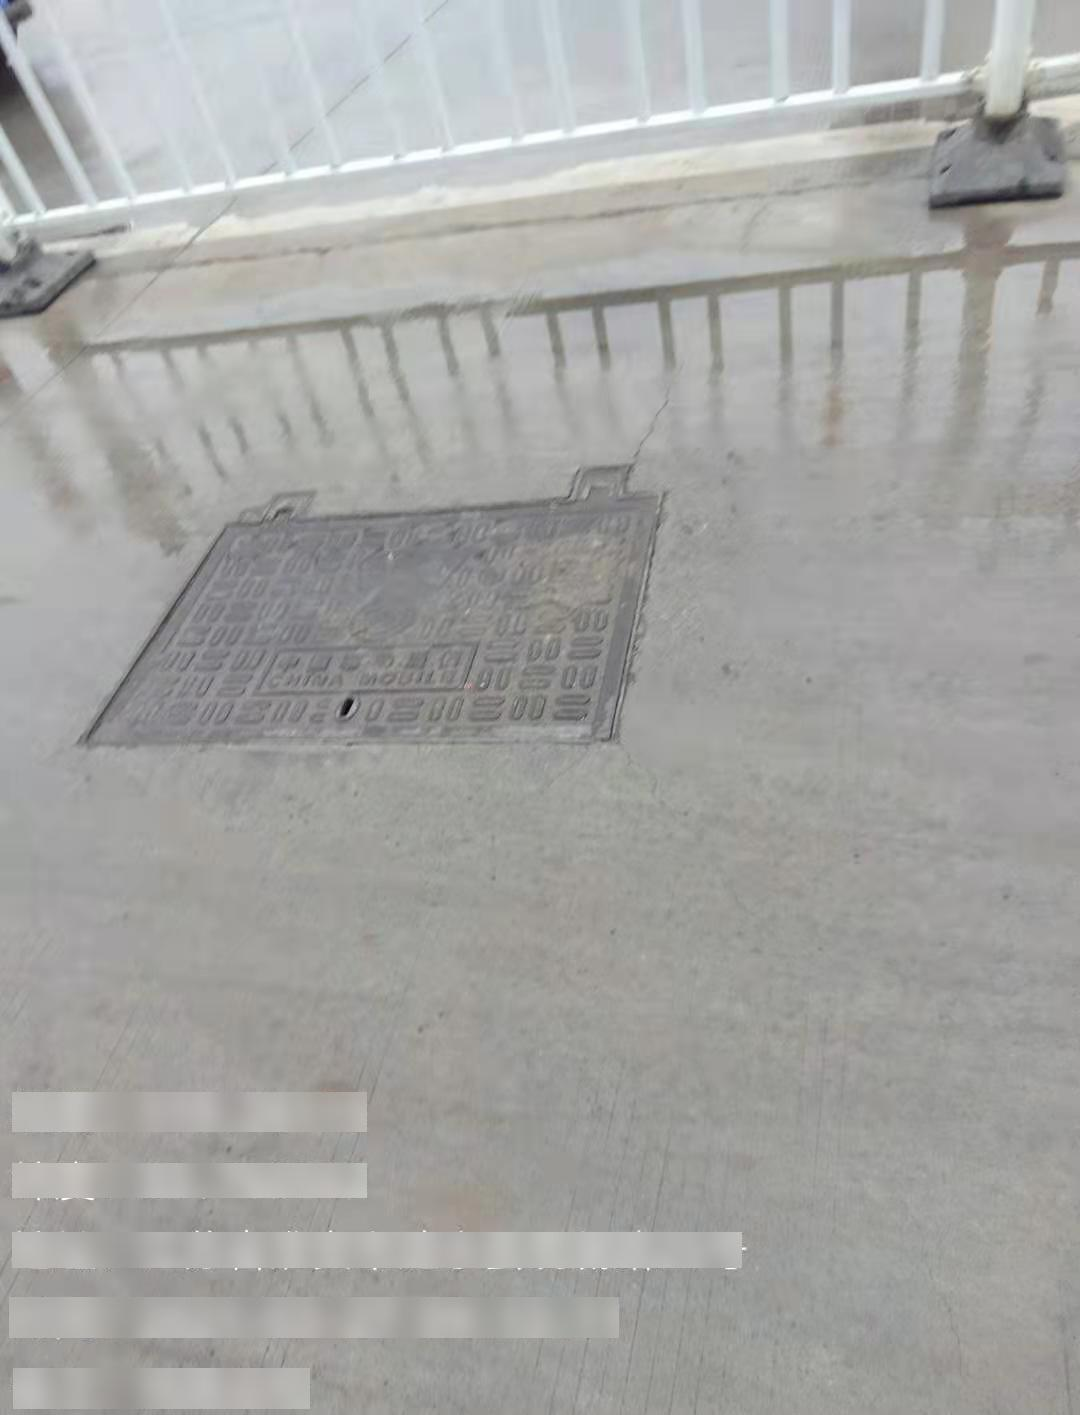wellcover: (59, 449, 694, 759)
